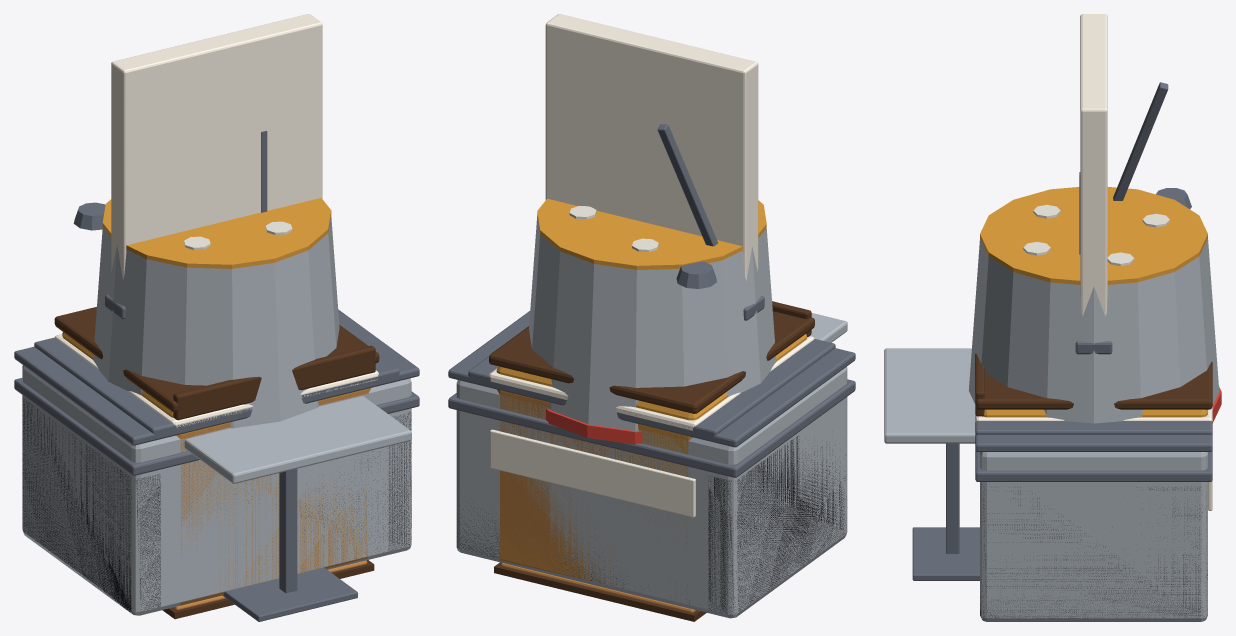
Rendered from kitchen.glb.
3 views of the same model, side by side, from view 1: azimuth 30°, elevation 25°; view 2: azimuth 150°, elevation 25°; view 3: azimuth 270°, elevation 25° (orthographic).
Visible parts, largest first — view 1: Wall_Panel.001, Stove_Pot.001, Pot_Table.001, Sink_Table.001, Stove_Body.001, Table_Top.001, Stove_Broth.001, Counter_Body.001, Pot_TableTop.001, Sink_Top.001, Shelf_Rail.001, Table_Foot.001 (+8 smaller); view 2: Pot_Table.001, Wall_Panel.001, Stove_Pot.001, Sink_Table.001, Stove_Body.001, Counter_Body.001, Serve_Stripe.001, Stove_Broth.001, Pot_TableTop.001, Serve_Top.001, Stove_Top.001, Sink_Top.001 (+8 smaller); view 3: Pot_Table.001, Stove_Pot.001, Stove_Broth.001, Table_Top.001, Wall_Panel.001, Pot_TableTop.001, Serve_Top.001, Table_Foot.001, Sink_Top.001, Stove_Top.001, Stove_Body.001, Table_Leg.001 (+5 smaller).
Part boxes in pixels (x1,y1,x2,y2): Wall_Panel.001: (111, 14, 322, 279); Stove_Pot.001: (93, 215, 339, 428); Pot_Table.001: (22, 365, 411, 615); Sink_Table.001: (160, 388, 388, 609); Stove_Body.001: (22, 396, 411, 613); Table_Top.001: (184, 396, 411, 483); Stove_Broth.001: (102, 198, 331, 268); Counter_Body.001: (176, 388, 370, 605); Pot_TableTop.001: (14, 309, 419, 445); Sink_Top.001: (34, 337, 399, 440); Shelf_Rail.001: (173, 345, 375, 420); Table_Foot.001: (222, 567, 357, 621); Pot_Table.001: (456, 366, 847, 618); Wall_Panel.001: (545, 14, 758, 280); Stove_Pot.001: (529, 216, 776, 431); Sink_Table.001: (481, 386, 708, 610); Stove_Body.001: (457, 436, 847, 614); Counter_Body.001: (497, 389, 692, 587); Serve_Stripe.001: (490, 429, 695, 517); Stove_Broth.001: (537, 198, 766, 269); Pot_TableTop.001: (448, 311, 855, 447); Serve_Top.001: (489, 311, 814, 413); Stove_Top.001: (448, 379, 855, 477); Sink_Top.001: (468, 339, 835, 440); Pot_Table.001: (980, 452, 1207, 621); Stove_Pot.001: (968, 238, 1219, 423); Stove_Broth.001: (980, 187, 1207, 284); Table_Top.001: (884, 348, 975, 443); Wall_Panel.001: (1080, 14, 1107, 316); Pot_TableTop.001: (975, 435, 1212, 451); Serve_Top.001: (975, 361, 1212, 409); Table_Foot.001: (912, 527, 979, 580); Sink_Top.001: (975, 421, 1212, 435); Stove_Top.001: (975, 450, 1212, 481); Stove_Body.001: (980, 487, 1207, 619); Table_Leg.001: (946, 443, 959, 553).
Bounding box in the file's own units: 1.44 × 2.45 × 1.48.
